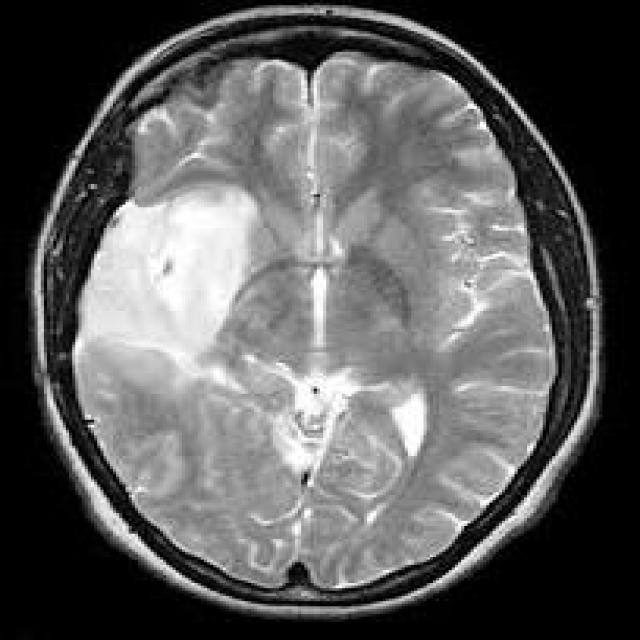Tumor-Cell: (49, 158, 265, 389)
